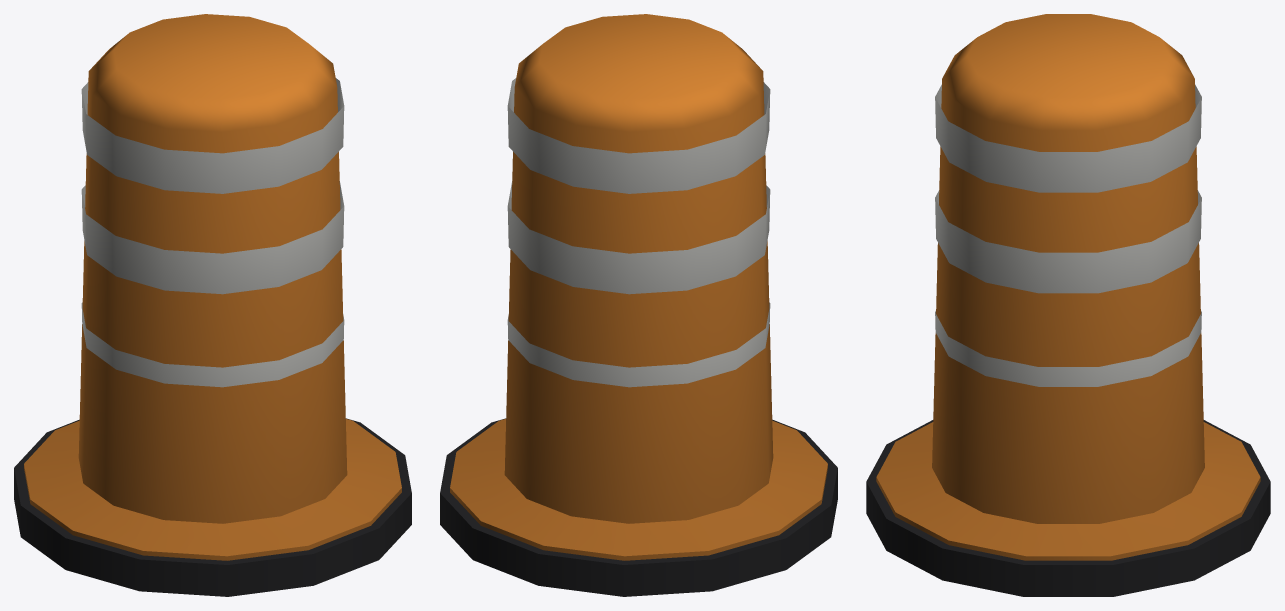
The model's file is DrumMIA.fbx.
3 views of the same model, side by side, from view 1: azimuth 30°, elevation 25°; view 2: azimuth 150°, elevation 25°; view 3: azimuth 270°, elevation 25° (orthographic).
Parts seen in each view (by area): view 1: DrumMIA; view 2: DrumMIA; view 3: DrumMIA.
Boxes of the visible parts, x1,y1,x2,y2 form: DrumMIA: [14, 14, 411, 596]; DrumMIA: [440, 14, 837, 596]; DrumMIA: [866, 14, 1270, 596].
Size of the model in its own units: 0.7799 by 1 by 0.8.
